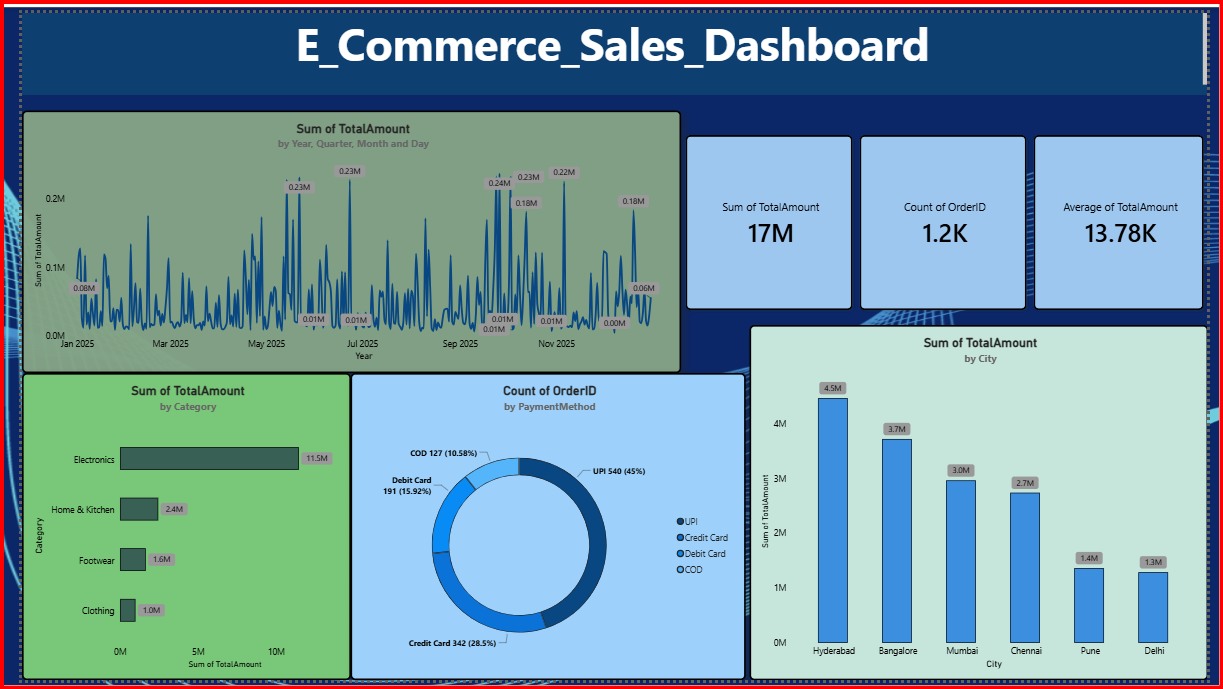

Layout of this report page (visuals, bound fields, positions):
{"tool":"powerbi","page":{"name":"E-Commerce-Sales-Dashboard","canvas":[1920,1080],"ordinal":0},"visuals":[{"type":"lineChart","fields":{"Category":["ecommerce_sales_dataset.OrderDate.Variation.Date Hierarchy.Year","ecommerce_sales_dataset.OrderDate.Variation.Date Hierarchy.Quarter","ecommerce_sales_dataset.OrderDate.Variation.Date Hierarchy.Month","ecommerce_sales_dataset.OrderDate.Variation.Date Hierarchy.Day"],"Y":["Sum(ecommerce_sales_dataset.TotalAmount)"]},"box":[0,157.5,1067.5,425],"z":0},{"type":"clusteredBarChart","fields":{"Category":["ecommerce_sales_dataset.Category"],"Y":["Sum(ecommerce_sales_dataset.TotalAmount)"]},"box":[0,582.5,532.5,497.5],"z":1},{"type":"donutChart","fields":{"Category":["ecommerce_sales_dataset.PaymentMethod"],"Y":["CountNonNull(ecommerce_sales_dataset.OrderID)"]},"box":[532.5,582.5,640,497.5],"z":2},{"type":"clusteredColumnChart","fields":{"Category":["ecommerce_sales_dataset.City"],"Y":["Sum(ecommerce_sales_dataset.TotalAmount)"]},"box":[1177.5,505,742.5,575],"z":3},{"type":"cardVisual","fields":{"Data":["Sum(ecommerce_sales_dataset.TotalAmount)"]},"box":[1067.5,192.5,282.5,295],"z":4},{"type":"cardVisual","fields":{"Data":["CountNonNull(ecommerce_sales_dataset.OrderID)"]},"box":[1350,192.5,282.5,295],"z":5},{"type":"cardVisual","fields":{"Data":["Avg(ecommerce_sales_dataset.TotalAmount)"]},"box":[1632.5,192.5,287.5,295],"z":6},{"type":"textbox","box":[0,0,1920,132.5],"z":7}]}

Visuals, with their boxes in screenshot pixels (x1, y1, x2, y2), scaled from the page's 1920x1080 canvas onto the 1223x689 screenshot:
lineChart - ecommerce_sales_dataset.OrderDate.Variation.Date Hierarchy.Year x ecommerce_sales_dataset.OrderDate.Variation.Date Hierarchy.Quarter: detection(0, 100, 680, 372)
clusteredBarChart - ecommerce_sales_dataset.Category x Sum(ecommerce_sales_dataset.TotalAmount): detection(0, 372, 339, 688)
donutChart - ecommerce_sales_dataset.PaymentMethod x CountNonNull(ecommerce_sales_dataset.OrderID): detection(339, 372, 747, 688)
clusteredColumnChart - ecommerce_sales_dataset.City x Sum(ecommerce_sales_dataset.TotalAmount): detection(750, 322, 1222, 688)
cardVisual - Sum(ecommerce_sales_dataset.TotalAmount): detection(680, 123, 860, 311)
cardVisual - CountNonNull(ecommerce_sales_dataset.OrderID): detection(860, 123, 1040, 311)
cardVisual - Avg(ecommerce_sales_dataset.TotalAmount): detection(1040, 123, 1222, 311)
textbox: detection(0, 0, 1222, 85)
